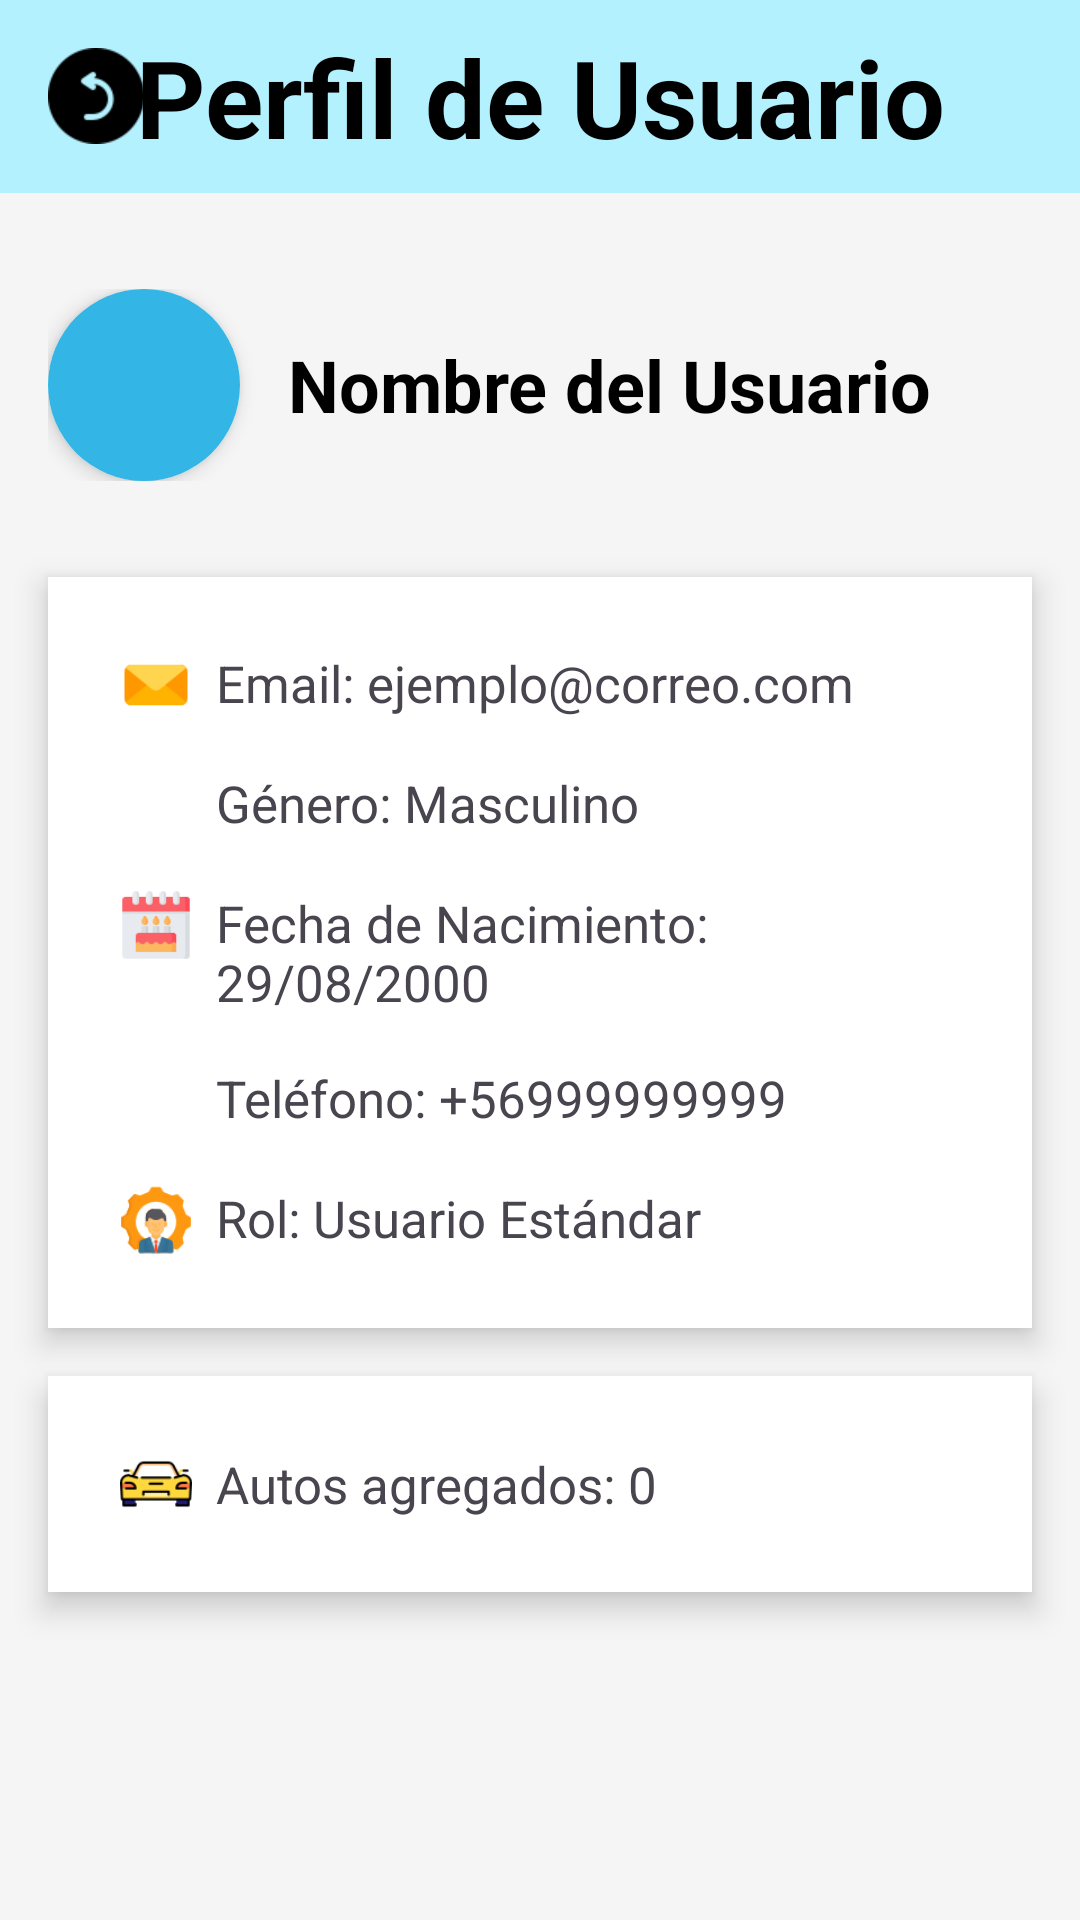

Icon click points for this 1080w x 1920h phone screenshot, format (x,y):
Icono Autos: (156,1484)
Icono Email: (156,685)
Icono Fecha de Nacimiento: (156,925)
Icono Rol: (156,1220)
Regresar: (108,96)
